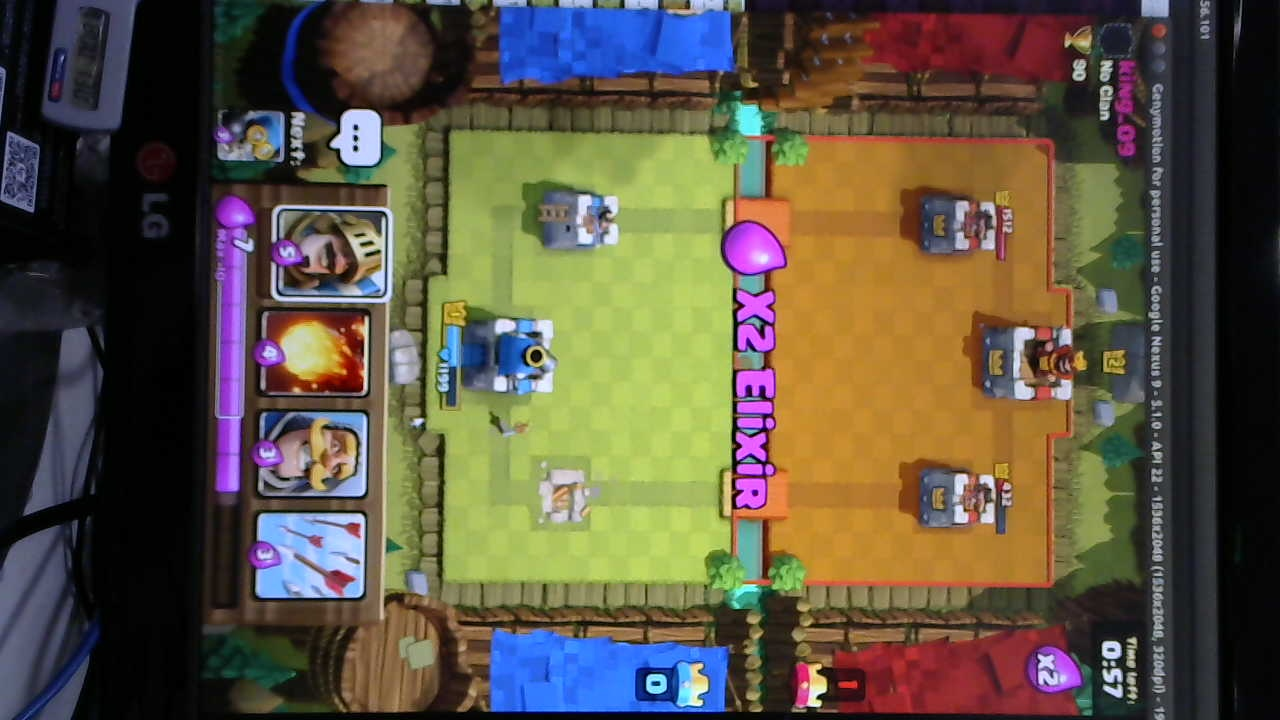arena: (539, 186, 622, 253)
darena: (542, 466, 587, 524)
earena: (917, 198, 998, 257), (920, 470, 999, 530)
eking: (982, 323, 1087, 403)
king: (466, 313, 557, 394)
